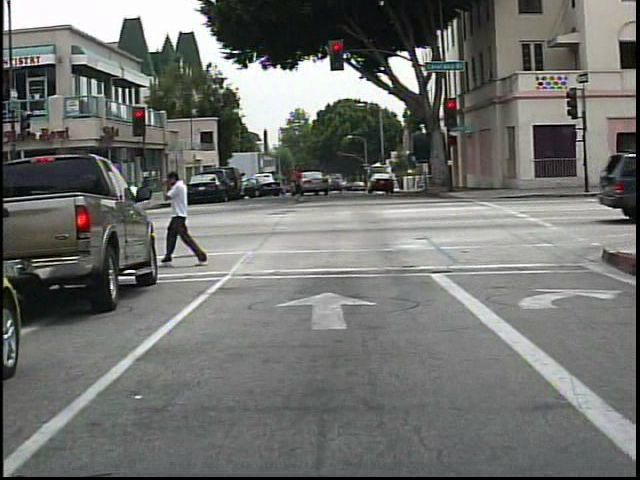person: (156, 168, 209, 270), (287, 162, 309, 206)
